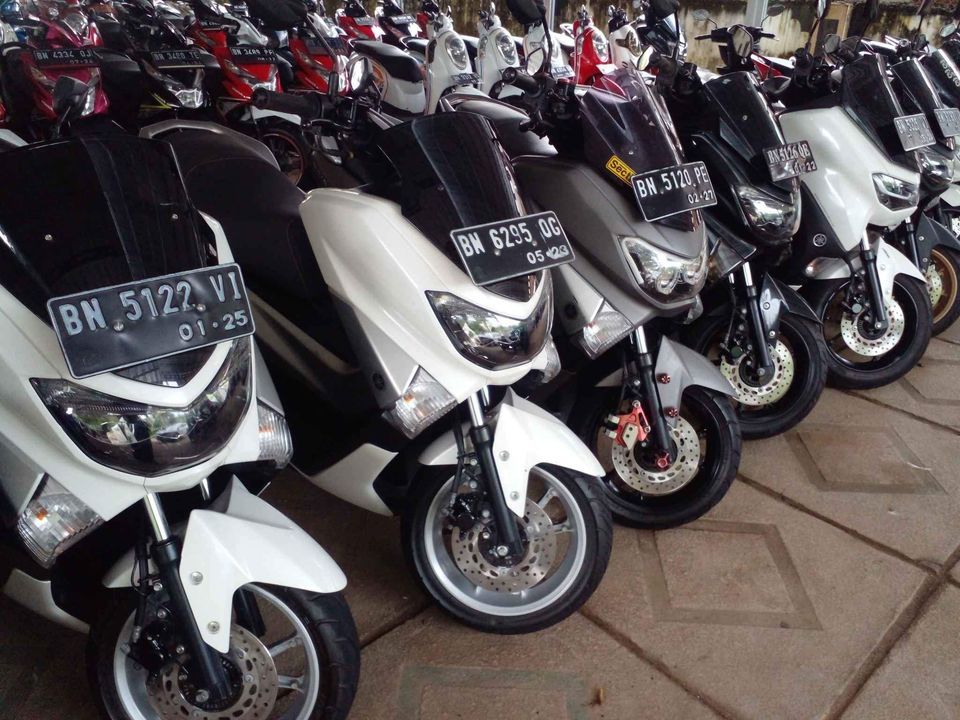plate: (42, 255, 252, 352), (442, 208, 585, 274), (630, 165, 725, 205)
